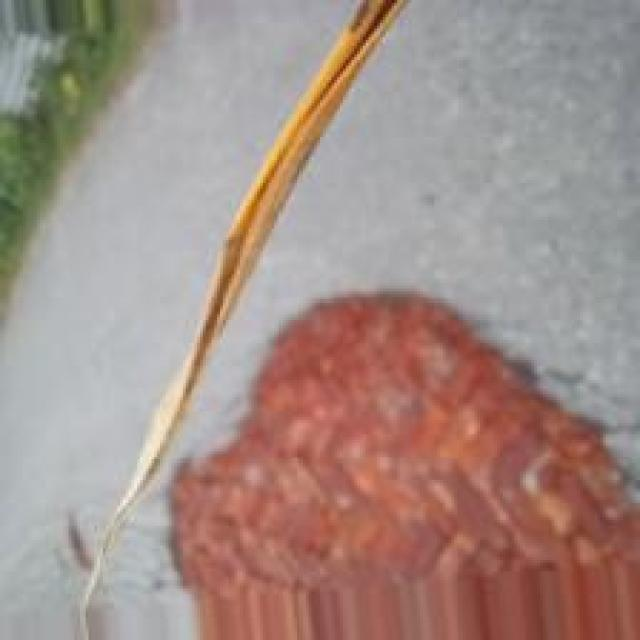Leaf_Scald: (169, 0, 404, 399)
